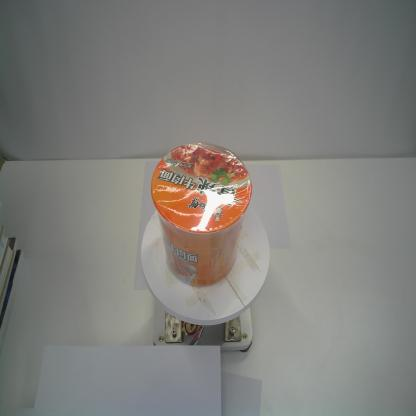Instant Noodles: (150, 140, 254, 288)
